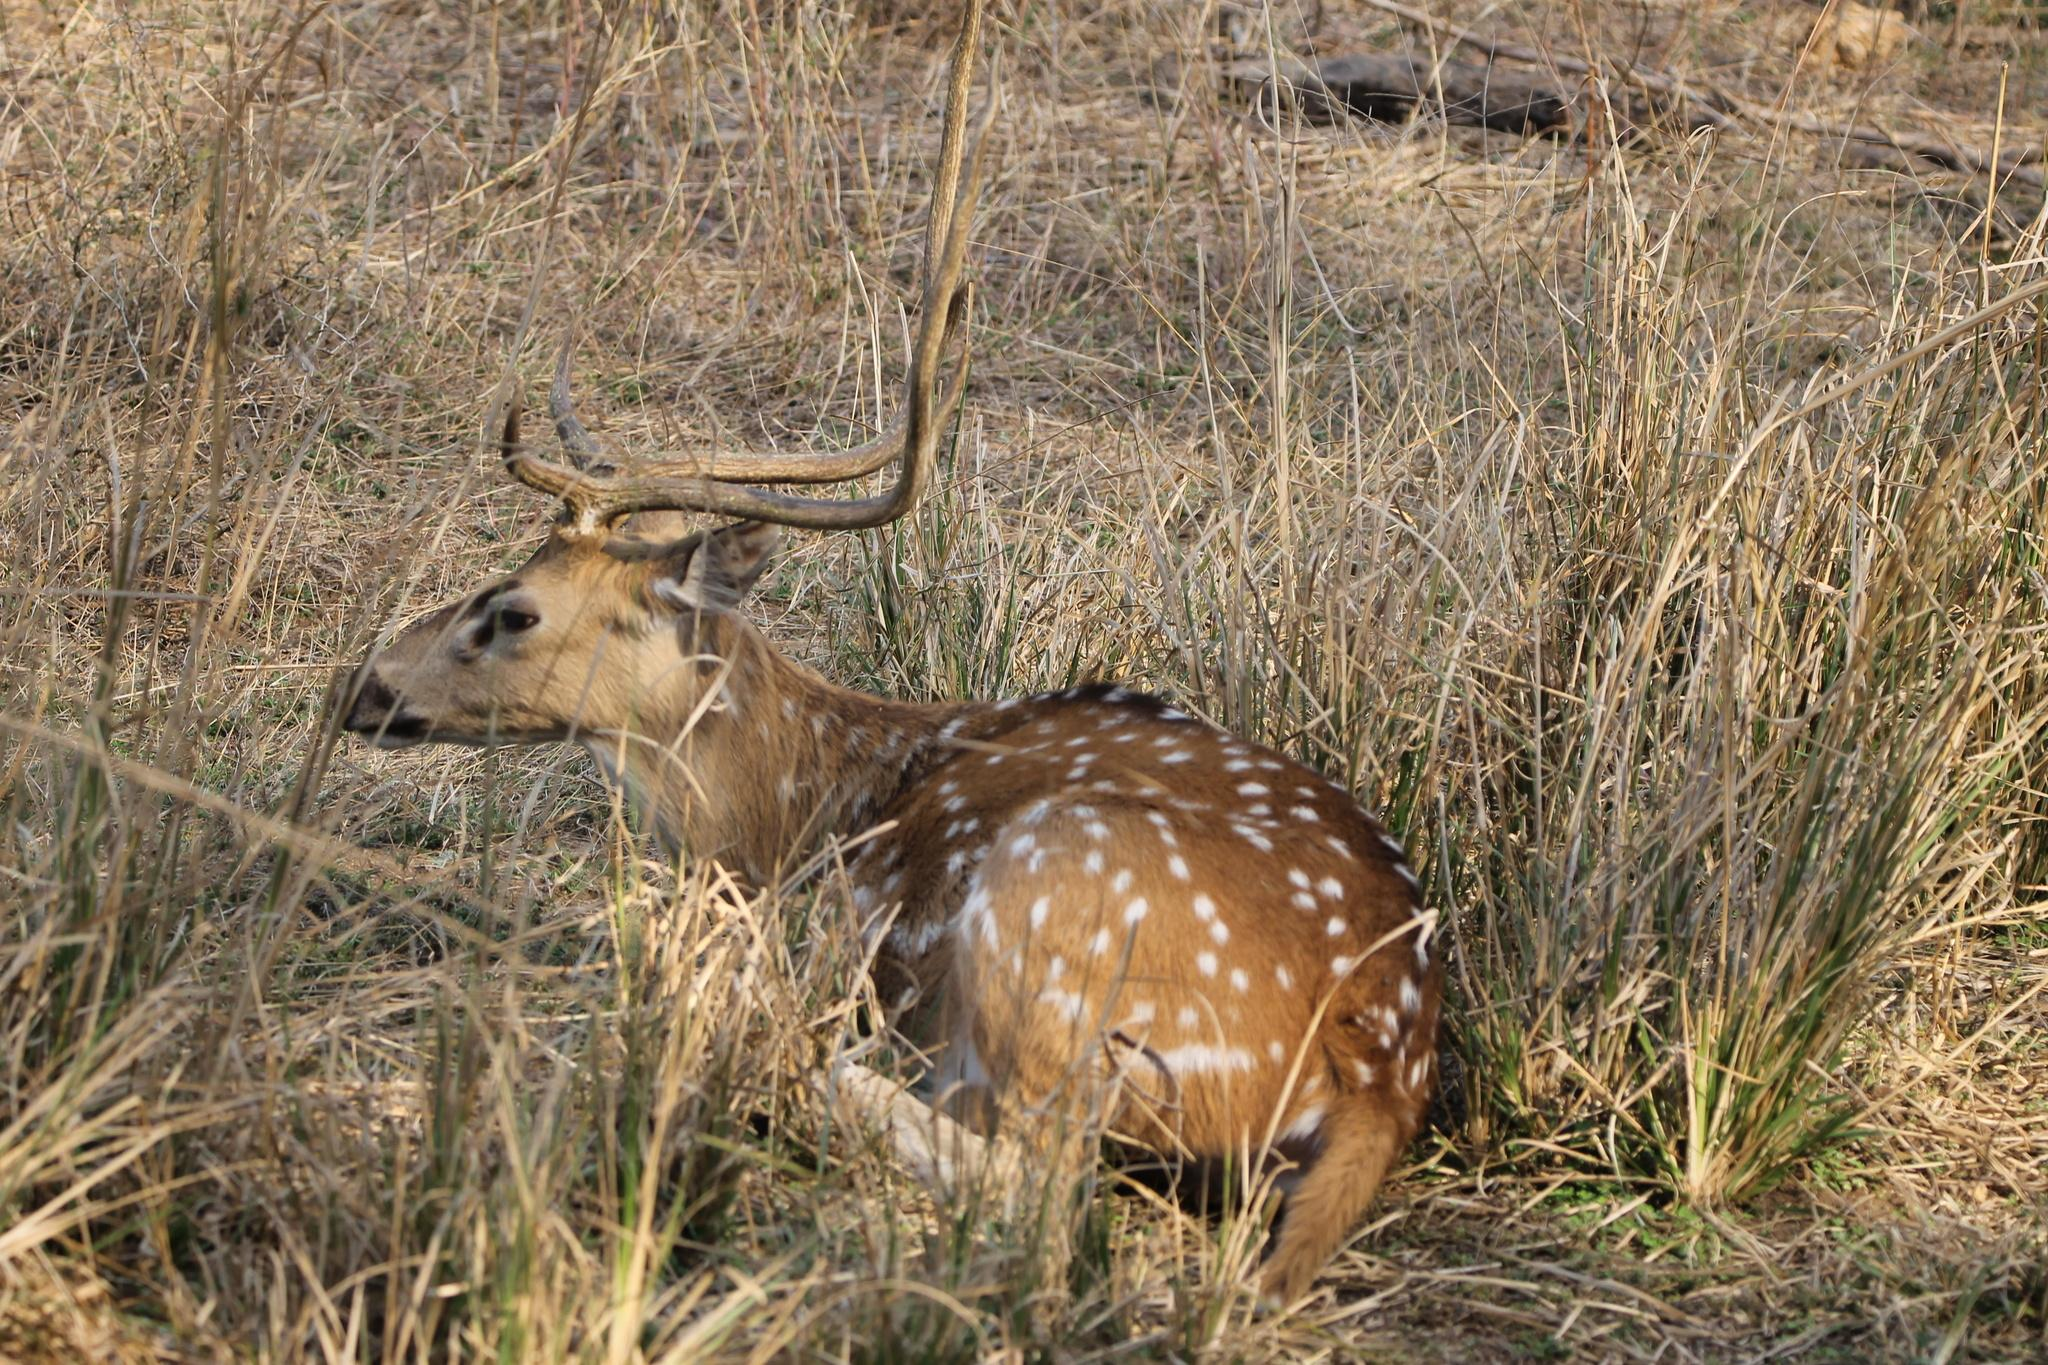Deer: (341, 0, 1440, 1298)
